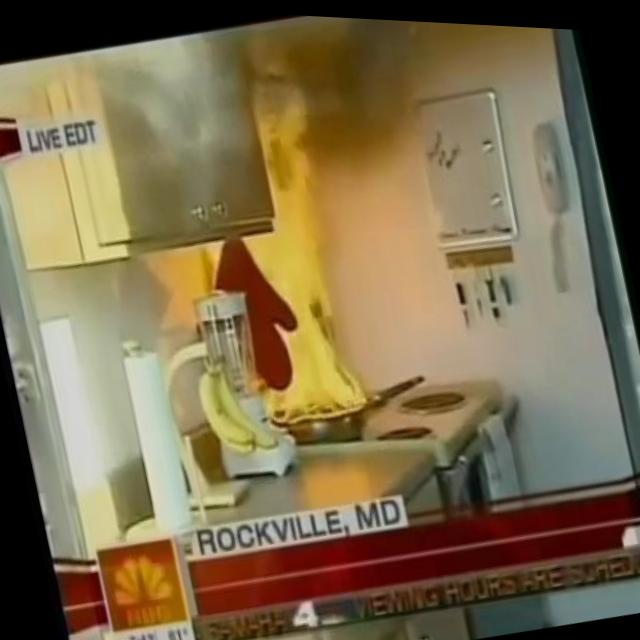fire: (185, 76, 374, 435)
